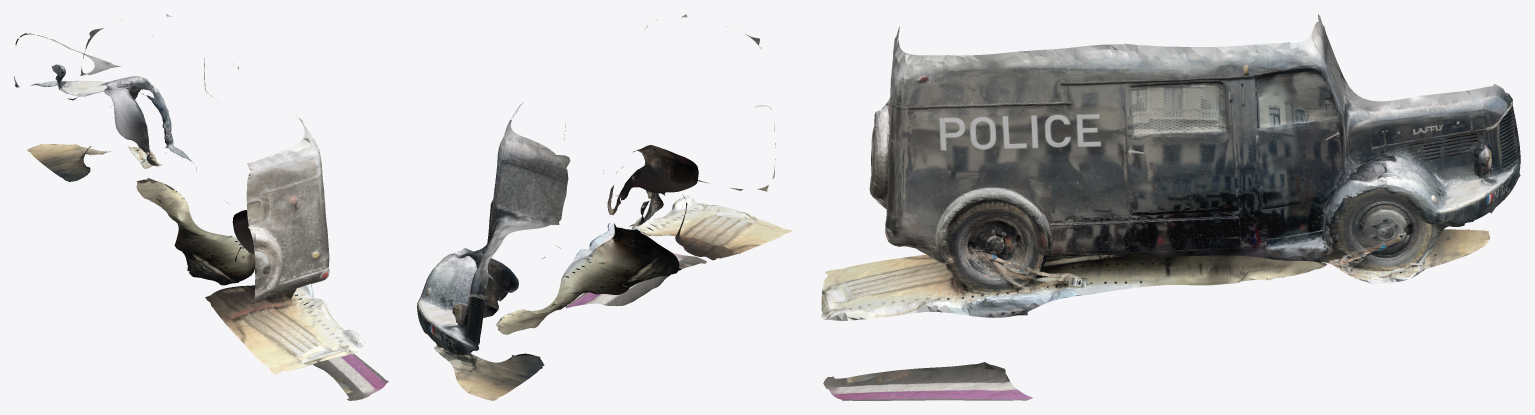
File: camion-police-brasseurs.glb
3 renders of one model, left to right at view 1: azimuth 30°, elevation 25°; view 2: azimuth 150°, elevation 25°; view 3: azimuth 270°, elevation 25°, orthographic. The views are drawn at different scales.
Size of the model in its own units: 1.57 by 3.09 by 5.89.
Materials: 1 (1 with a texture image).
